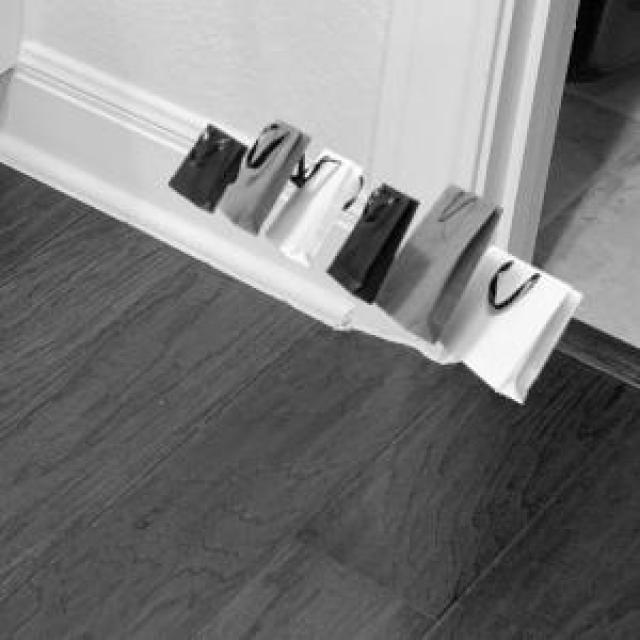paper: (164, 117, 578, 399)
